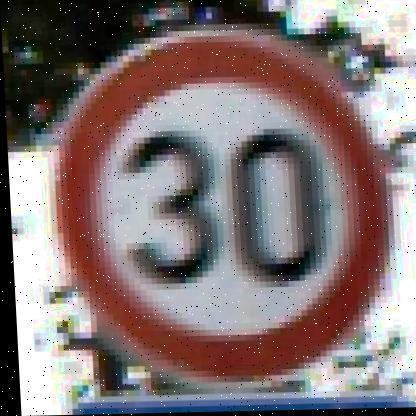Speed Limit -30-: (41, 24, 393, 393)
